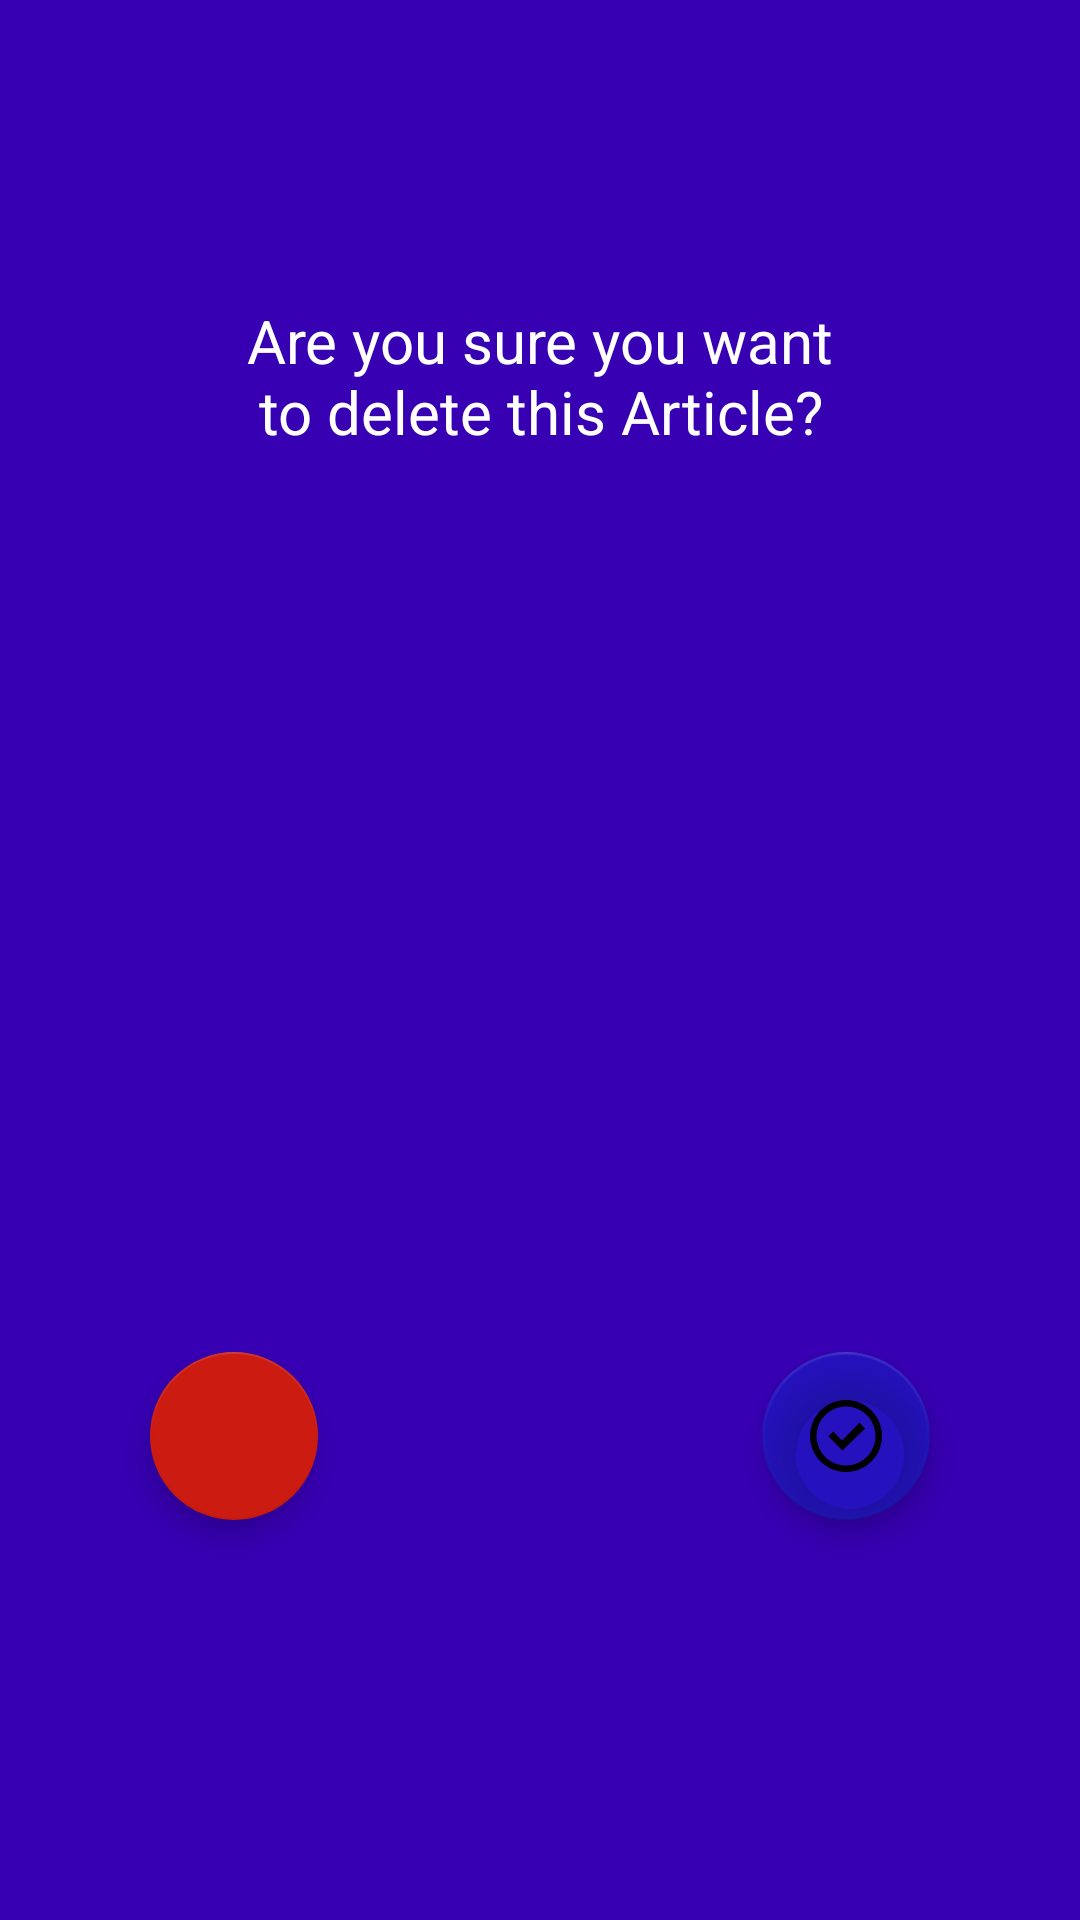

Where to tap for icons on this 1080px×1920px app screen, as point (x, y):
oki: point (846, 1436)
